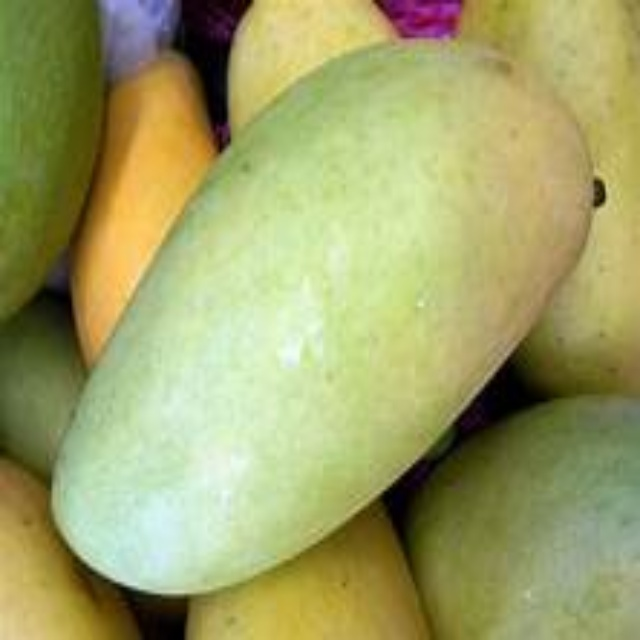mango: (54, 41, 602, 588), (410, 390, 638, 638), (78, 64, 214, 367)
